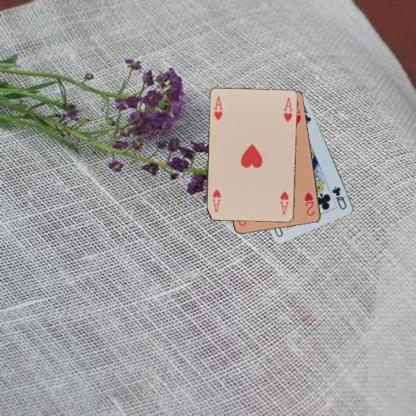2h: (302, 189, 316, 217)
Ah: (277, 189, 290, 216), (212, 94, 224, 121)
Qc: (330, 184, 348, 211)
